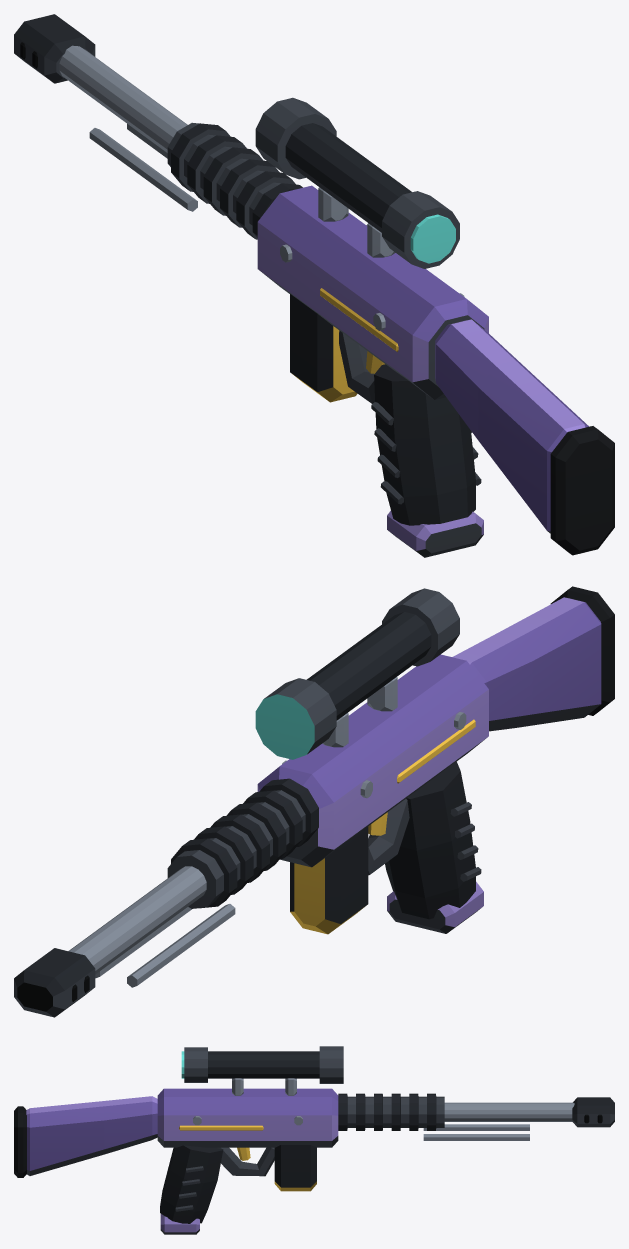
The model's file is HeavyRifle.fbx.
3 views of the same model, one above another, from view 1: azimuth 30°, elevation 25°; view 2: azimuth 150°, elevation 25°; view 3: azimuth 270°, elevation 25° (orthographic). The views are drawn at different scales.
Parts seen in each view (by area): view 1: Receiver, Stock, Scope, Grip, Shroud, ButtPad, Barrel, Magazine, MuzzleBrake, GripHeel, Bipod, Guard (+4 smaller); view 2: Receiver, Scope, Stock, Shroud, Grip, Magazine, Barrel, MuzzleBrake, Bipod, ButtPad, Guard, GripHeel (+3 smaller); view 3: Receiver, Stock, Scope, Shroud, Grip, Barrel, Magazine, Bipod, MuzzleBrake, Guard, ButtPad, GripHeel (+3 smaller).
Part boxes in pixels (x1,y1,x2,y2): Receiver: [257, 185, 488, 399]; Stock: [435, 319, 588, 533]; Scope: [255, 97, 459, 268]; Grip: [374, 364, 475, 525]; Shroud: [167, 122, 302, 239]; ButtPad: [550, 426, 614, 555]; Barrel: [59, 45, 187, 152]; Magazine: [290, 294, 357, 402]; MuzzleBrake: [14, 14, 95, 83]; GripHeel: [387, 510, 483, 557]; Bipod: [89, 124, 197, 211]; Guard: [339, 330, 384, 403]; Receiver: [257, 654, 488, 867]; Scope: [255, 588, 459, 759]; Stock: [452, 597, 601, 731]; Shroud: [167, 778, 318, 908]; Grip: [385, 761, 475, 919]; Magazine: [290, 826, 368, 934]; Barrel: [68, 866, 206, 974]; MuzzleBrake: [14, 948, 95, 1017]; Bipod: [95, 904, 235, 987]; ButtPad: [550, 586, 614, 715]; Guard: [368, 799, 409, 875]; GripHeel: [387, 881, 483, 933]; Receiver: [157, 1088, 338, 1147]; Stock: [26, 1096, 157, 1175]; Scope: [184, 1046, 343, 1083]; Shroud: [338, 1093, 444, 1130]; Grip: [160, 1145, 223, 1223]; Barrel: [444, 1102, 574, 1121]; Magazine: [274, 1145, 316, 1191]; Bipod: [423, 1124, 529, 1140]; MuzzleBrake: [572, 1097, 614, 1127]; Guard: [217, 1147, 274, 1176]; ButtPad: [14, 1106, 26, 1177]; GripHeel: [160, 1214, 199, 1234].
Bounding box in the file's own units: 0.1018 × 0.3728 × 1.13.
1 material, 1 textured.
